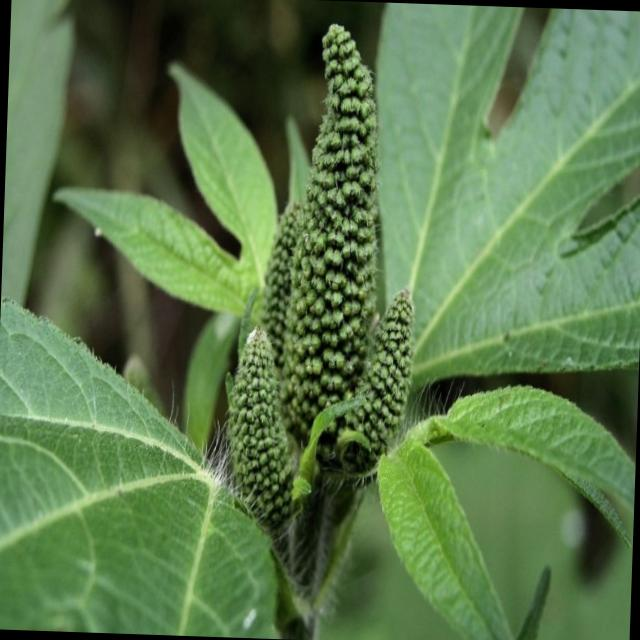ambrosia: (209, 34, 433, 530)
